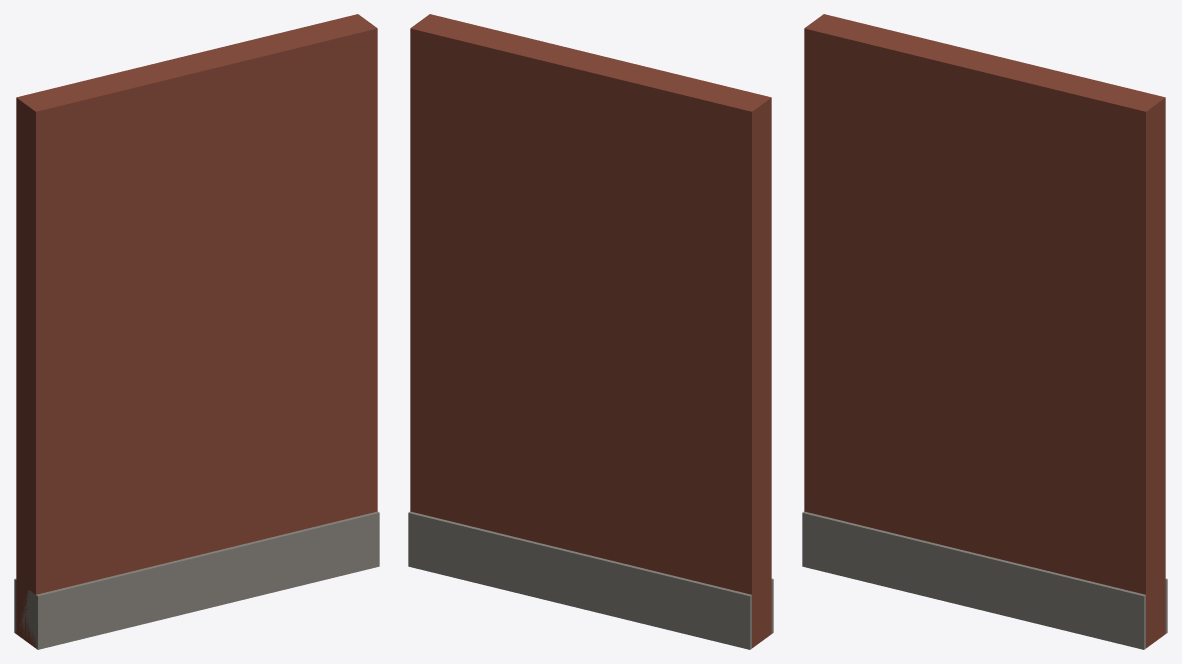
File: wall.glb
3 views of the same model, side by side, from view 1: azimuth 30°, elevation 25°; view 2: azimuth 150°, elevation 25°; view 3: azimuth 330°, elevation 25° (orthographic).
Parts seen in each view (by area): view 1: wall, footer; view 2: wall, footer; view 3: wall, footer.
Part boxes in pixels (left/top/right/bottom): wall: left=16, top=14, right=377, bottom=648; footer: left=14, top=511, right=379, bottom=649; wall: left=410, top=14, right=771, bottom=648; footer: left=408, top=511, right=773, bottom=649; wall: left=804, top=14, right=1165, bottom=648; footer: left=802, top=511, right=1167, bottom=649.
Size of the model in its own units: 1 by 1.5 by 0.12.
